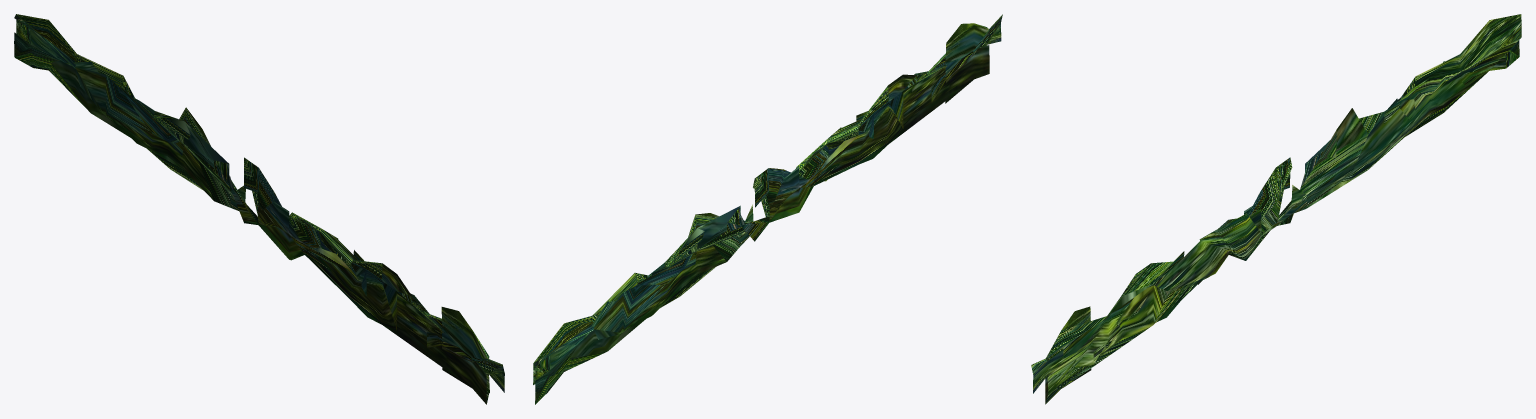
3 renders of one model, left to right at view 1: azimuth 30°, elevation 25°; view 2: azimuth 150°, elevation 25°; view 3: azimuth 330°, elevation 25°, orthographic. The views are drawn at different scales.
Parts seen in each view (by area): view 1: algae_cube_Cube; view 2: algae_cube_Cube; view 3: algae_cube_Cube.
Part boxes in pixels (x1,y1,x2,y2): algae_cube_Cube: (14, 14, 504, 404); algae_cube_Cube: (533, 14, 1002, 404); algae_cube_Cube: (1031, 14, 1521, 404).
Size of the model in its own units: 0.0123 by 0.2705 by 3.15.
